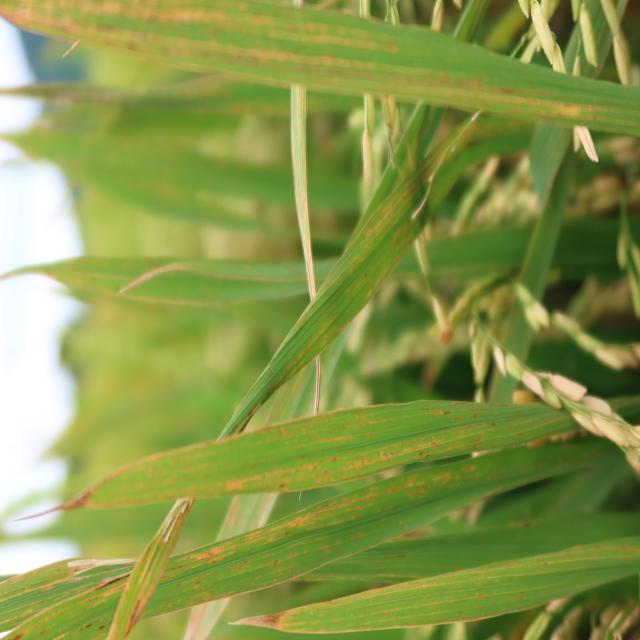Dom soc vi khuan: (175, 455, 496, 567), (212, 419, 484, 497), (156, 534, 334, 614), (271, 317, 345, 394), (260, 408, 381, 454), (348, 189, 413, 273), (345, 251, 394, 305), (73, 579, 128, 611)
